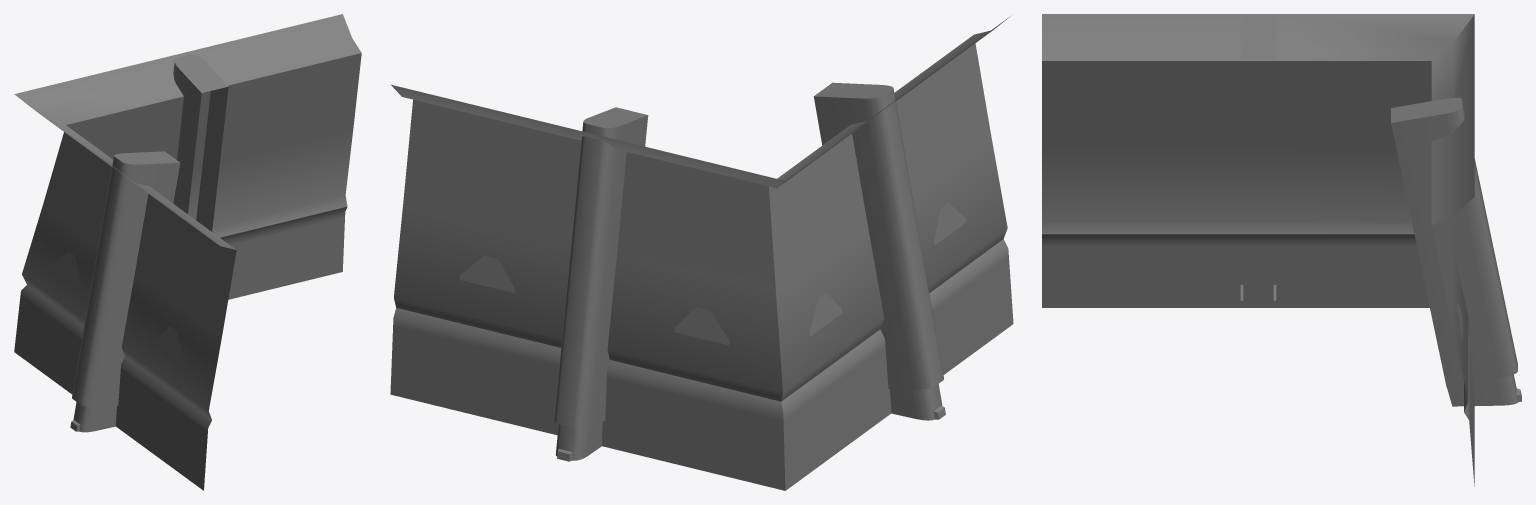
File: q-scifi-mod-wallastra-corner-square-outer.glb
3 views of the same model, side by side, from view 1: azimuth 30°, elevation 25°; view 2: azimuth 150°, elevation 25°; view 3: azimuth 270°, elevation 25° (orthographic). The views are drawn at different scales.
Visible parts, largest first — view 1: WallAstra_Corner_Square_Outer; view 2: WallAstra_Corner_Square_Outer; view 3: WallAstra_Corner_Square_Outer.
Boxes of the visible parts, x1,y1,x2,y2 form: WallAstra_Corner_Square_Outer: (14,14,361,490); WallAstra_Corner_Square_Outer: (390,16,1013,490); WallAstra_Corner_Square_Outer: (1042,14,1521,486).
Size of the model in its own units: 4.44 by 3.03 by 4.44.
Materials: 5 (5 with a texture image).
